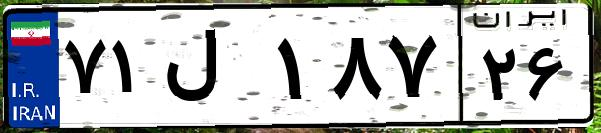1: (270, 28, 330, 110), (110, 28, 158, 98)
2: (475, 38, 525, 113)
6: (525, 38, 570, 115)
7: (385, 28, 445, 110), (57, 26, 110, 100)
8: (330, 28, 385, 110)
ل: (158, 20, 270, 120)
